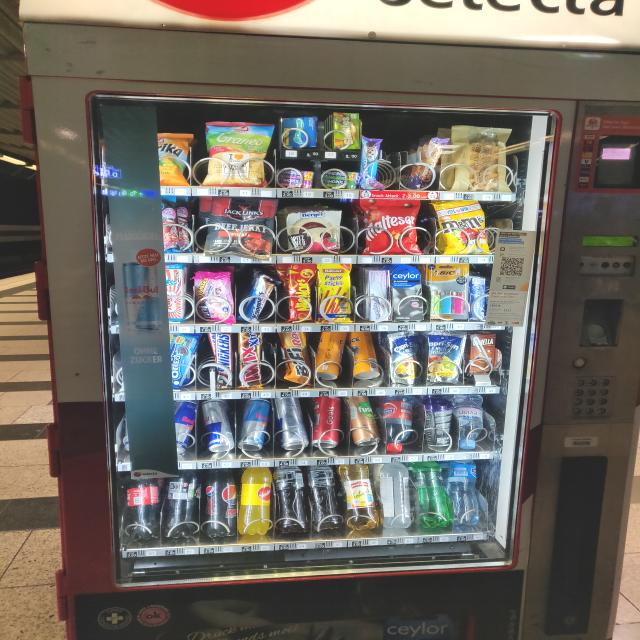airwaves_menthoneucalyptus_riegel_14_1_50173167: (278, 114, 319, 149)
bifi_roll__50__4251097402635: (281, 334, 313, 385)
c-swiss_dosenabisicetea__33__9120025930135: (313, 332, 350, 382), (351, 331, 379, 381)
caferoyal_classicmacchiato__33__7617014164487: (422, 398, 456, 450)
caprisun_multivitamin__20__4000177605004: (427, 328, 468, 382), (385, 329, 420, 384)
coke__dose_33__54491472: (314, 394, 343, 450)
coke__flasche_50__54491472: (121, 474, 162, 542)
coke_zero_flasche_50__5449000131836: (163, 468, 206, 544)
comella_schokodrink__33__7613100037253: (465, 332, 501, 376)
evian___50__3068320353500: (451, 393, 488, 451)
fini_jellykisses_packung_80_1_8410525116704: (190, 269, 237, 323)
fuse_lemon__50__5449000235947: (307, 468, 342, 531)
fuse_peach__50__5449000236623: (272, 466, 308, 541)
fuse_peach_dose_33__5449000236623: (350, 396, 382, 449)
henniez_blau__33__7610235000442: (448, 458, 483, 528)
henniez_rot__33__7610235000442: (382, 392, 419, 453)
jacklinks_beefjerkyorginal__25__4047751730219: (204, 196, 276, 258)
jlbrichard_gauffre__90__5410495002000: (450, 123, 511, 190)
kagi_specialedition__50__7610046000259: (154, 262, 189, 323)
knoppers_riegel____4035800488808: (242, 276, 276, 324)
lorenz_nicnacs__40__4018077798818: (286, 264, 319, 323)
malburner_partysticks__40__7610200279682: (317, 262, 352, 326)
maltesers___100__5000159023061: (361, 194, 428, 260)
mnms_gelb__45__40111445: (440, 199, 491, 256)
oreo___66__84100733: (168, 336, 202, 390)
pepsi_max__50__4060800105943: (202, 468, 236, 540)
ramseier_schorle__50__7610057012456: (343, 463, 377, 529)
redbull___33__90162909: (166, 402, 197, 456), (201, 401, 234, 450), (279, 400, 308, 450)
redbull_light__33__90162800: (236, 397, 272, 453)
sinalco_orange__50__4018715000112: (232, 467, 272, 537)
skittles_sour_riegel_51_1_0000000000004: (331, 111, 363, 150)
snickers___50__5000159461122: (212, 332, 237, 388)
stimorol_spearmint_riegel_14_1_0000000000005: (319, 170, 362, 190)
stimorol_wildcherry_riegel_14_1_57060330: (281, 169, 313, 187)
twix___50__5000159459228: (234, 330, 270, 390)
valser_classic__50__76404160: (412, 458, 445, 532)
vitaminwell_reload__50__7350042716388: (379, 460, 411, 530)
zweifel_graneochilli__100__7610095184009: (198, 118, 283, 185)
zweifel_paprika__90__7610095013002: (139, 129, 194, 186)
